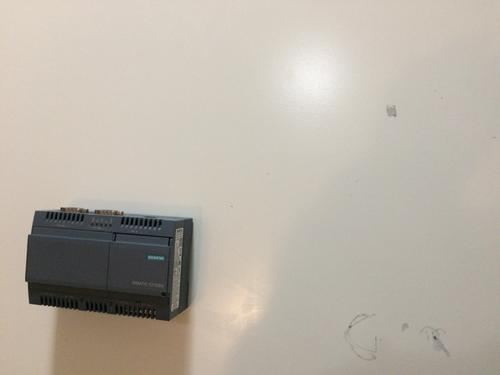iot2000: (25, 206, 195, 324)
